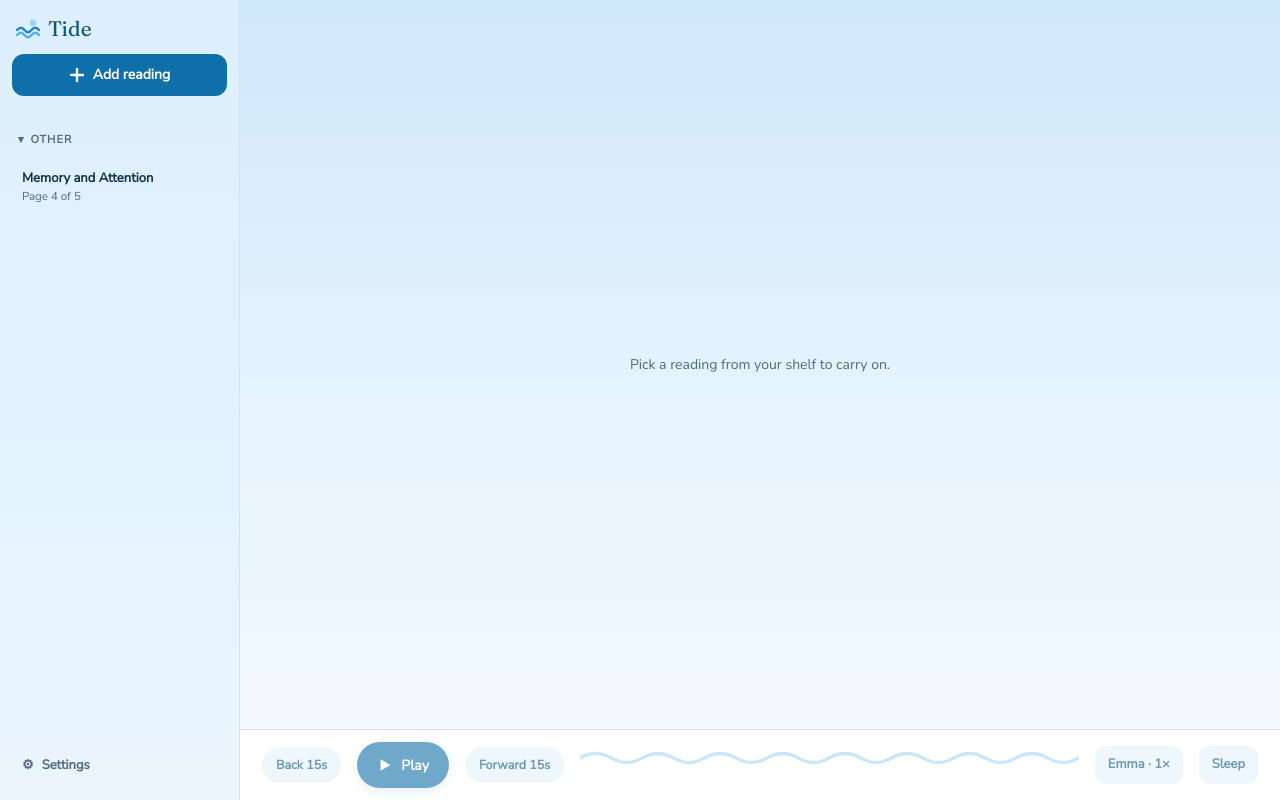
Test: Reader pages and text › draws her page first, then extracts the text, and labels the player
What coordinates should you click on to do the following:
click the button "Memory and Attention Page 4 of 5"
I would click on:
 (120, 187)
Its box is [12,162,227,212].
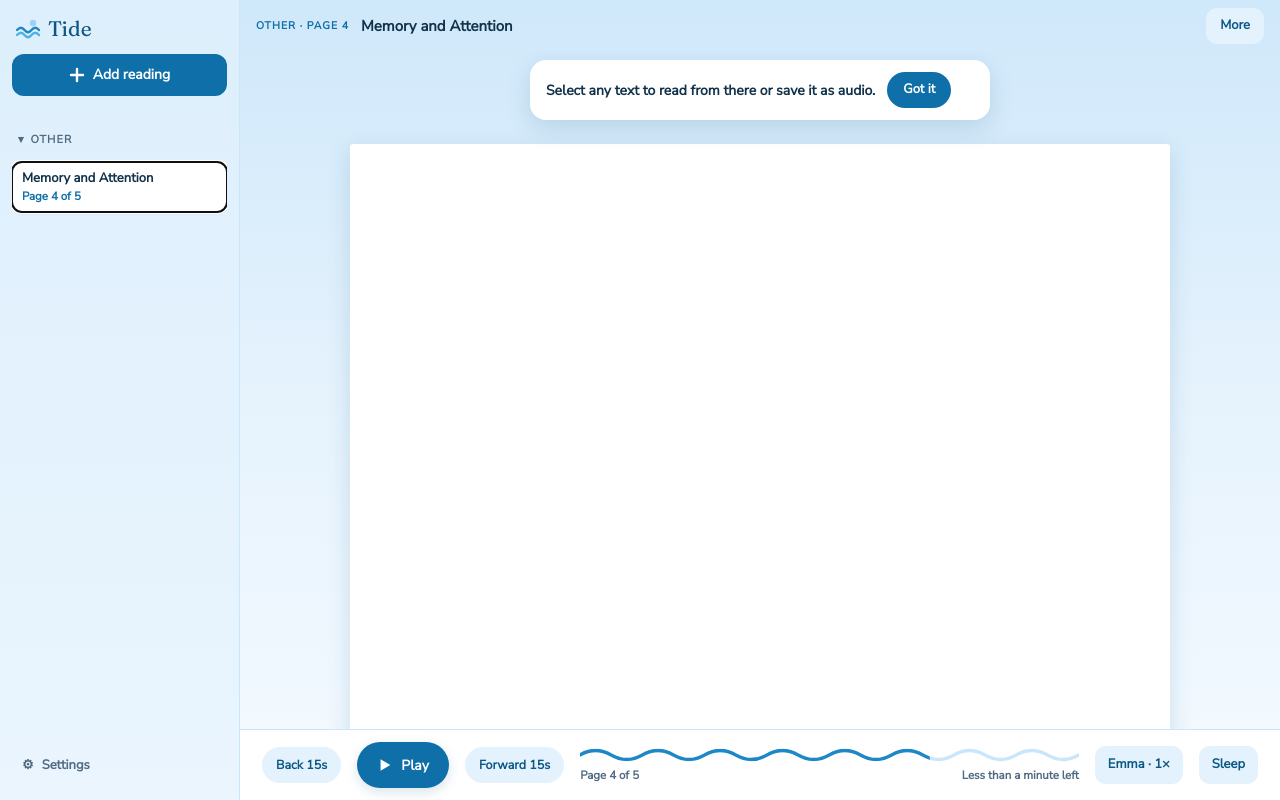
Expected: the text "Page 4 of 5" in the row of "Less than a minute left" is shown, [580,767,639,783]
